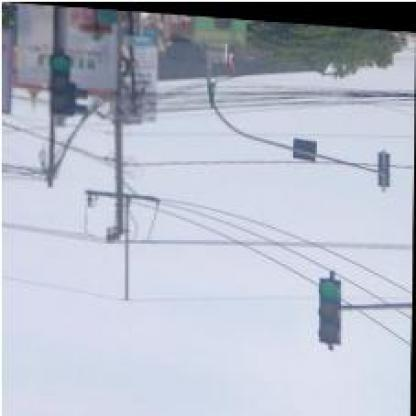green: (319, 272, 344, 340), (48, 51, 68, 114)
